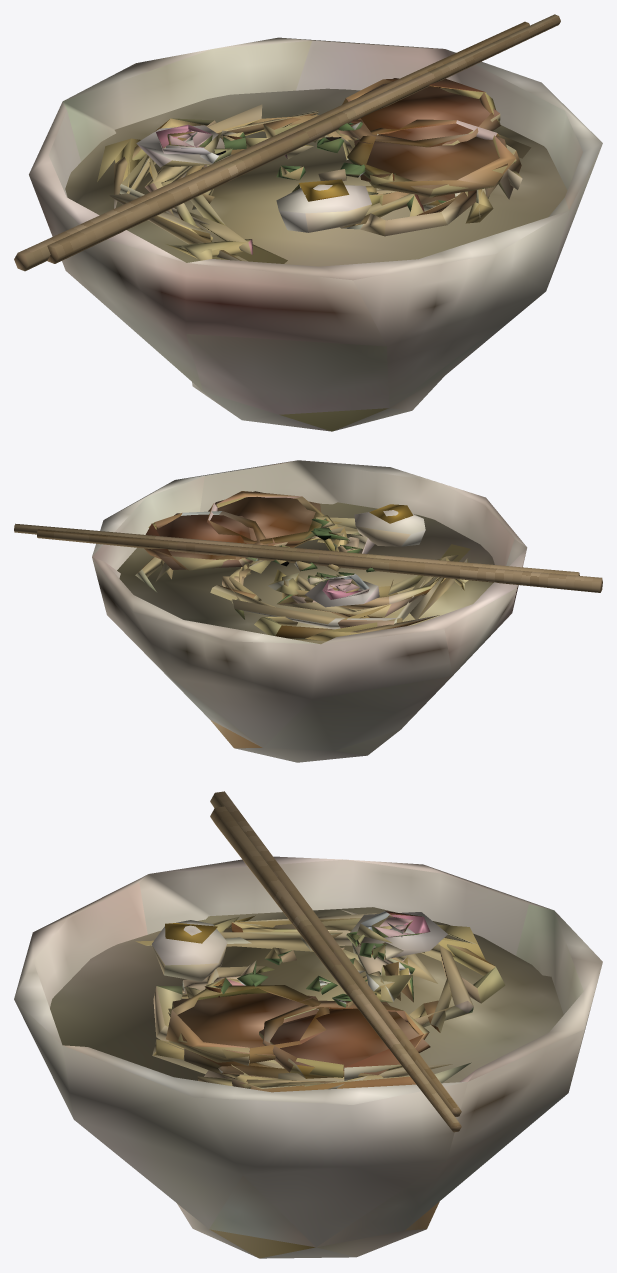
File: ramen_shio.glb
The picture shows the model from 3 angles, top to bottom: view 1: azimuth 30°, elevation 25°; view 2: azimuth 150°, elevation 25°; view 3: azimuth 270°, elevation 25°; orthographic projection. The views are drawn at different scales.
Visible parts, largest first — view 1: prop_ramen_shio_felt, prop_ramen_shio_wood; view 2: prop_ramen_shio_felt, prop_ramen_shio_wood; view 3: prop_ramen_shio_felt, prop_ramen_shio_wood.
Part boxes in pixels (bbox=[...]): prop_ramen_shio_felt: bbox=[29, 37, 602, 431]; prop_ramen_shio_wood: bbox=[14, 14, 560, 271]; prop_ramen_shio_felt: bbox=[92, 460, 527, 762]; prop_ramen_shio_wood: bbox=[14, 523, 602, 592]; prop_ramen_shio_felt: bbox=[14, 856, 602, 1258]; prop_ramen_shio_wood: bbox=[210, 791, 461, 1132].
Bounding box in the file's own units: 0.3955 × 0.1436 × 0.299.
2 materials, 2 textured.
